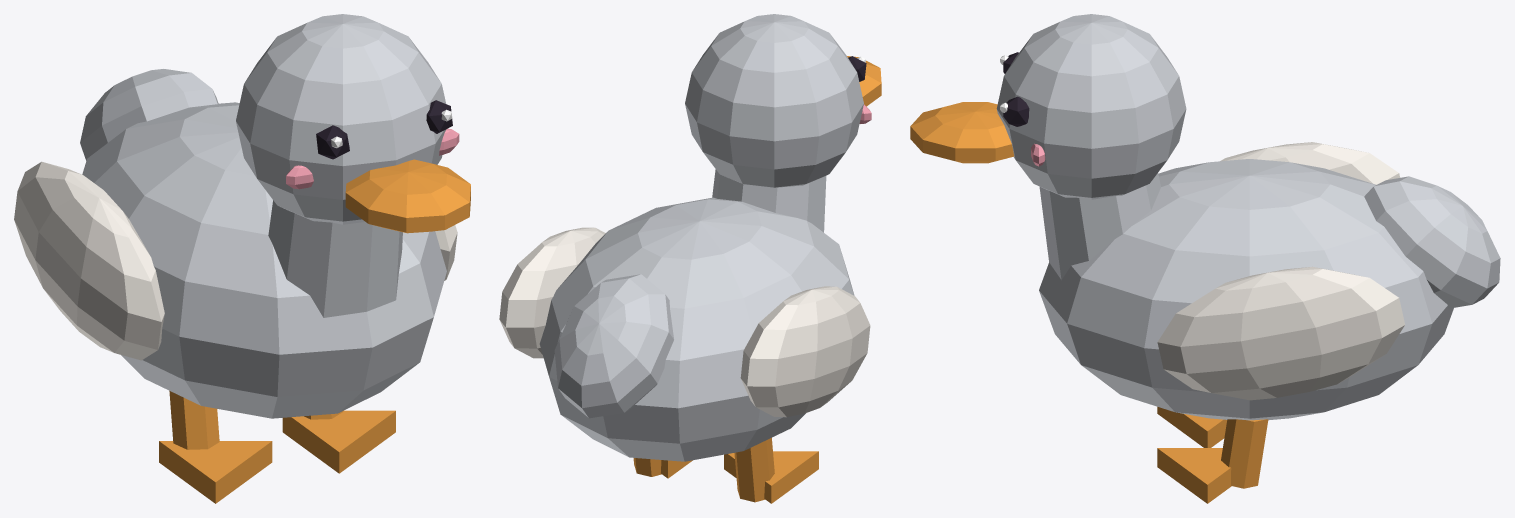
Rendered from duck.glb.
The picture shows the model from 3 angles, left to right: view 1: azimuth 30°, elevation 25°; view 2: azimuth 150°, elevation 25°; view 3: azimuth 270°, elevation 25°; orthographic projection. The views are drawn at different scales.
Visible parts, largest first — view 1: body, head; view 2: body, head; view 3: body, head.
Boxes of the visible parts, <box> form: body: <box>14,69,457,503</box>; head: <box>236,14,470,317</box>; body: <box>499,197,870,503</box>; head: <box>685,14,881,232</box>; body: <box>1039,142,1500,503</box>; head: <box>910,14,1186,279</box>.
Bounding box in the file's own units: 0.3449 × 0.4525 × 0.5597.
